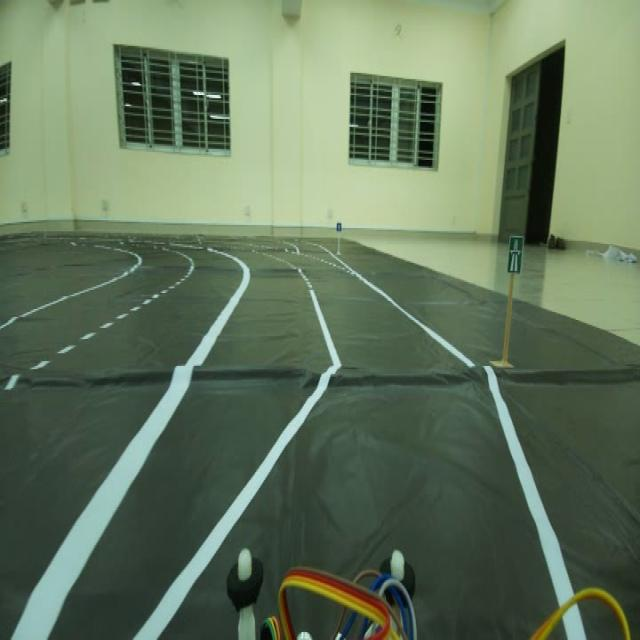highway_entry: (501, 216, 527, 283)
